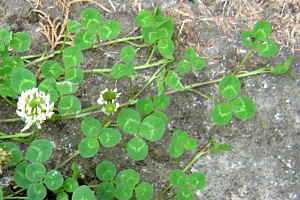clover: (116, 106, 165, 161), (210, 74, 256, 125), (73, 7, 120, 49), (77, 116, 122, 158), (41, 45, 86, 85), (94, 160, 140, 199), (24, 161, 65, 200), (239, 19, 277, 59), (142, 18, 175, 57), (168, 168, 206, 198), (109, 45, 136, 79), (167, 129, 197, 158), (176, 48, 205, 74)
clover blossom white: (15, 86, 55, 131), (96, 87, 122, 104)
